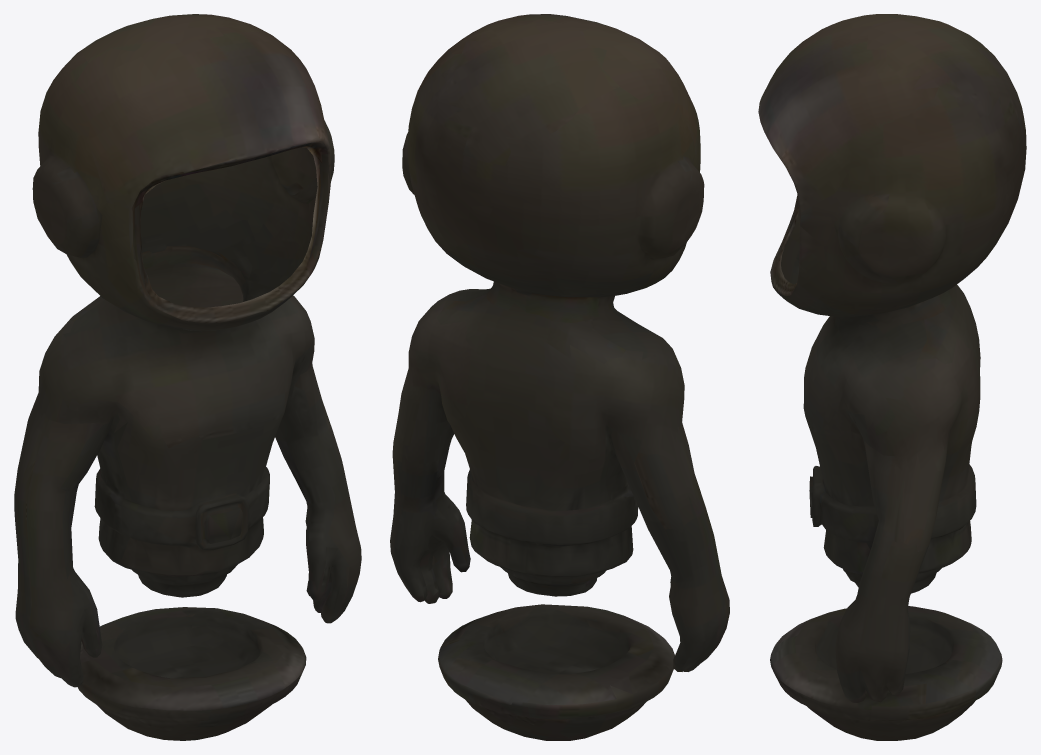
3 renders of one model, left to right at view 1: azimuth 30°, elevation 25°; view 2: azimuth 150°, elevation 25°; view 3: azimuth 270°, elevation 25°, orthographic.
Parts seen in each view (by area): view 1: Base Robot; view 2: Base Robot; view 3: Base Robot.
Boxes of the visible parts, left/top/right/bottom form: Base Robot: left=14, top=14, right=361, bottom=740; Base Robot: left=390, top=14, right=729, bottom=740; Base Robot: left=758, top=14, right=1026, bottom=740.
Size of the model in its own units: 0.8911 by 1.82 by 0.6344.
2 materials, 1 textured.
